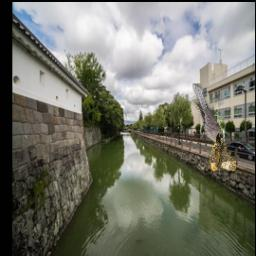Cuckoo: (192, 83, 227, 147)
Woodpecker: (210, 133, 237, 171)
